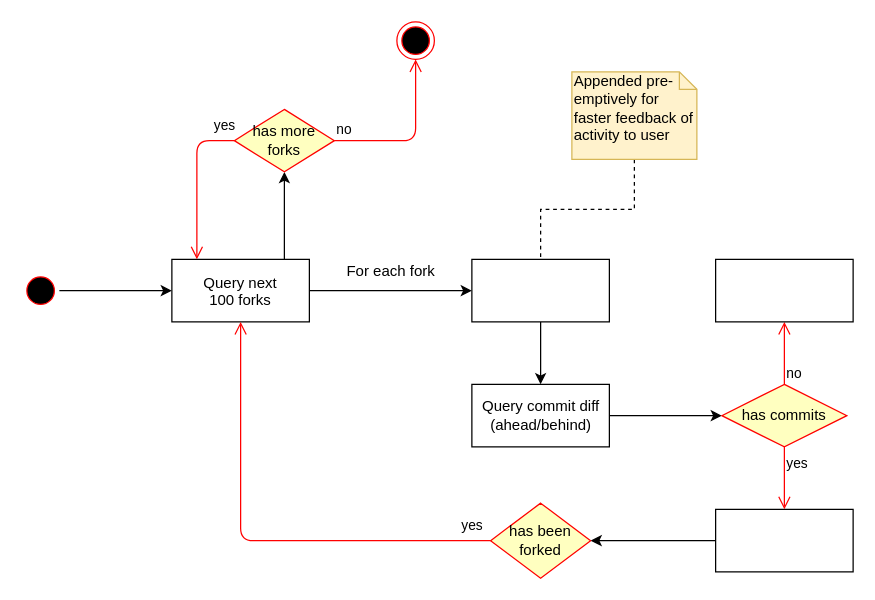
This 875x600 diagram has some shape labels left out. Each missing label, with the centre of its shape:
"Append info to row (ahead/behind)" goes at (783,540).
"Append new row to table" goes at (540,290).
"Remove row from table" goes at (783,290).
